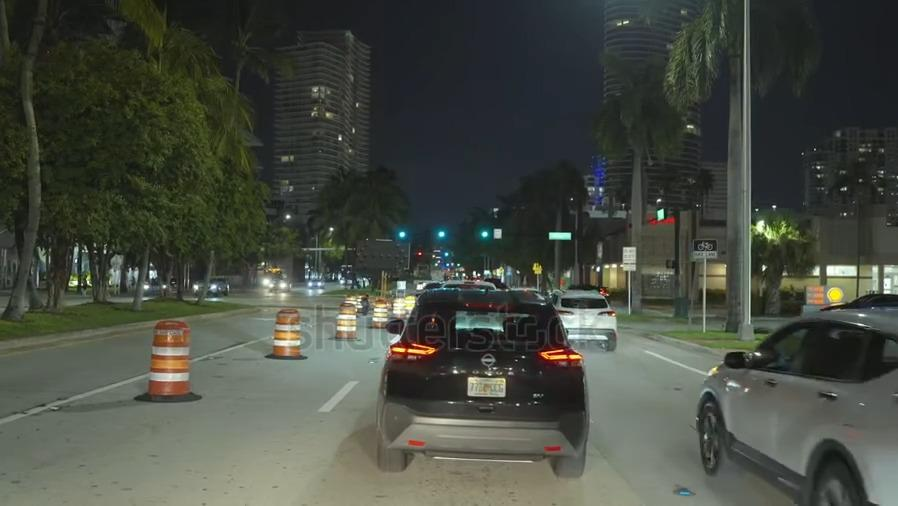bus: (258, 264, 283, 288)
car: (701, 308, 898, 506), (375, 291, 586, 472), (549, 287, 619, 349), (818, 291, 898, 312), (140, 272, 179, 297), (193, 274, 231, 295), (271, 278, 291, 294), (305, 277, 325, 290)
cone: (149, 317, 193, 395), (269, 306, 306, 359), (333, 299, 355, 343), (388, 293, 403, 318), (373, 295, 385, 326), (403, 291, 413, 313)
traffic light: (433, 220, 451, 245), (391, 225, 415, 242), (476, 224, 495, 244)
wheel: (806, 448, 858, 504), (697, 395, 725, 470)
